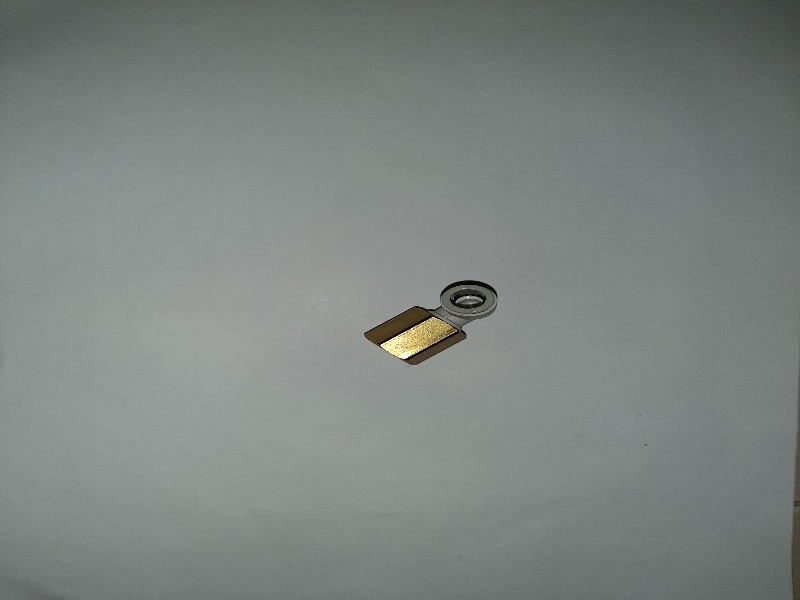Connector: (364, 267, 509, 369)
